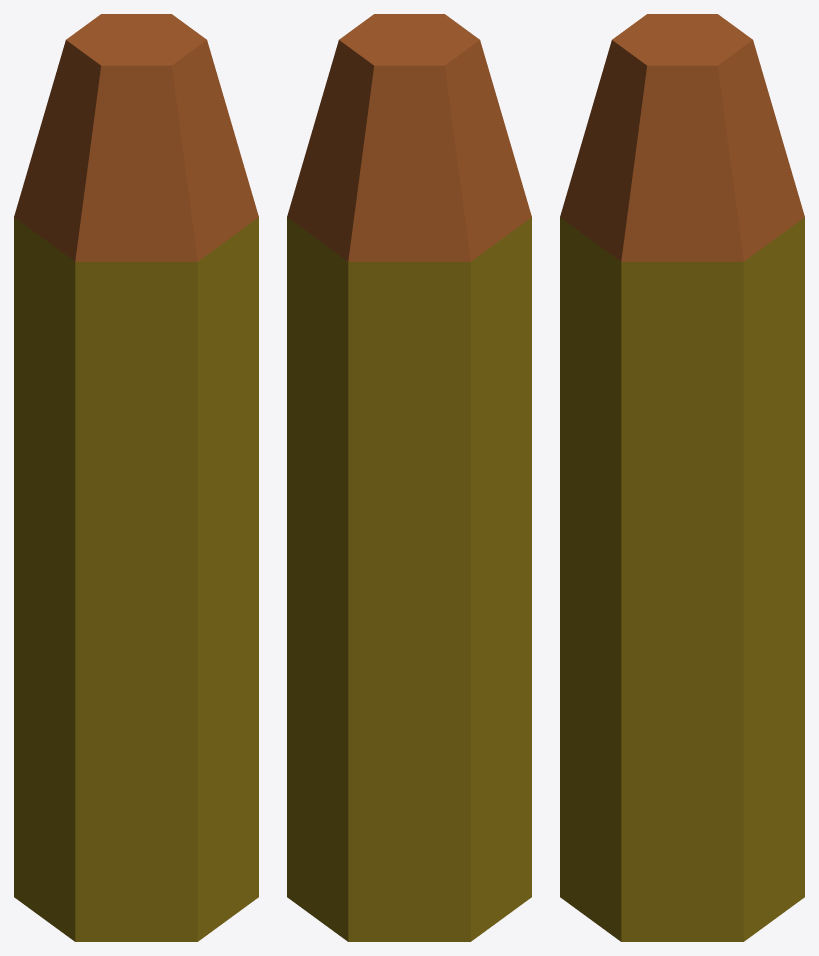
The model's file is Pistol_Bullet.fbx.
The picture shows the model from 3 angles, left to right: view 1: azimuth 30°, elevation 25°; view 2: azimuth 150°, elevation 25°; view 3: azimuth 270°, elevation 25°; orthographic projection.
Parts seen in each view (by area): view 1: Pistol_Bullet; view 2: Pistol_Bullet; view 3: Pistol_Bullet.
Part boxes in pixels (<box>): Pistol_Bullet: <box>14,14,258,941</box>; Pistol_Bullet: <box>287,14,531,941</box>; Pistol_Bullet: <box>560,14,804,941</box>.
Bounding box in the file's own units: 0.7855 × 3.5 × 0.9071.
